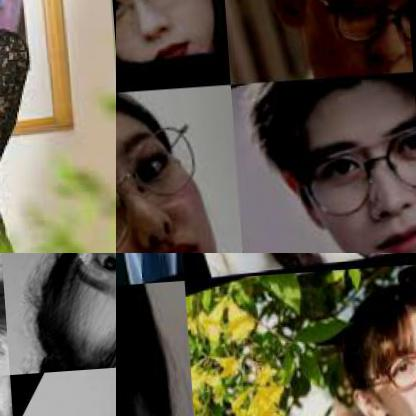Glasses: (284, 122, 415, 232), (116, 120, 218, 252), (281, 0, 413, 81), (357, 320, 415, 410), (116, 0, 210, 52), (116, 303, 128, 415)
glasses: (34, 253, 115, 356)
